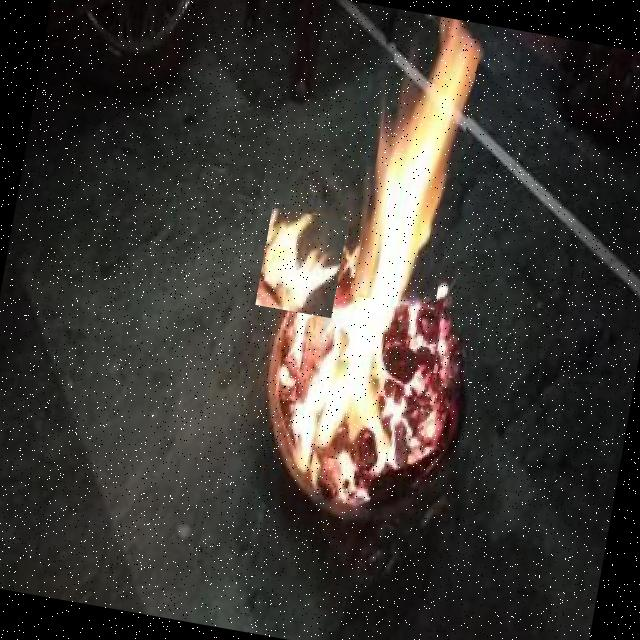fire: (352, 26, 481, 310), (255, 207, 348, 318)
